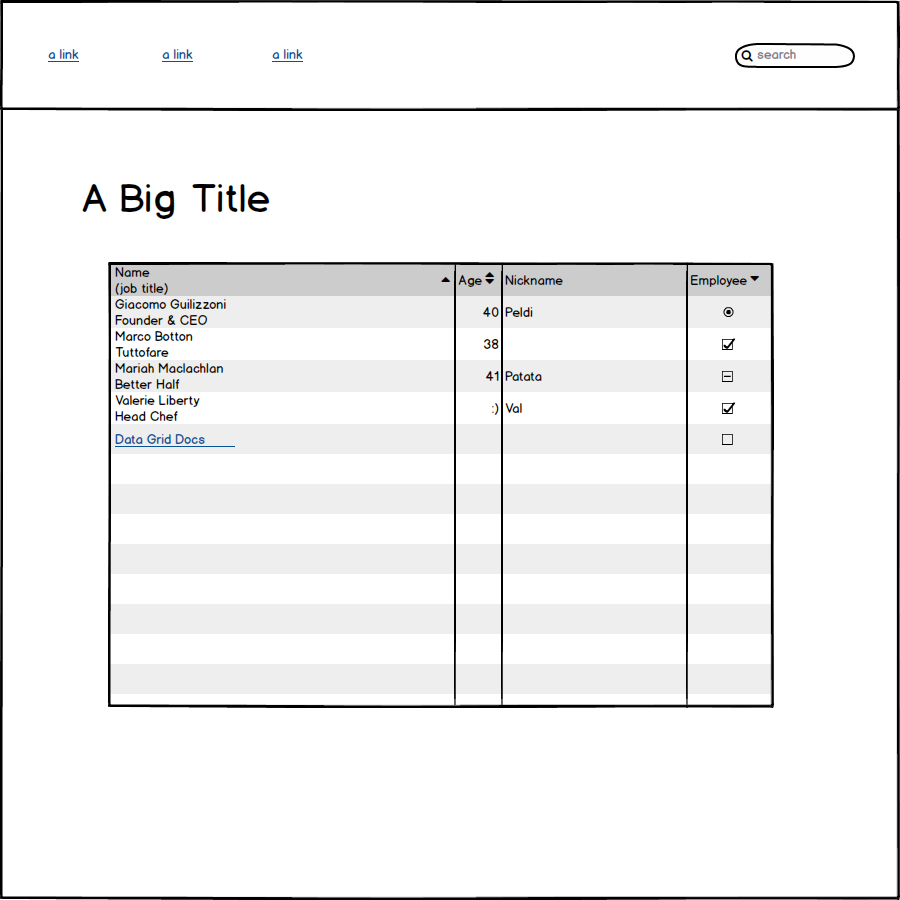h1: (72, 173, 283, 226)
navlink: (152, 40, 212, 73), (37, 38, 94, 70), (261, 37, 316, 70)
search: (719, 36, 867, 73)
table: (98, 256, 782, 714)
